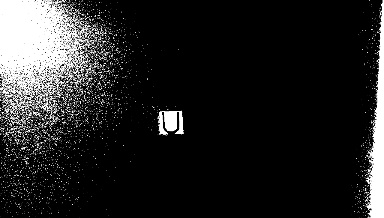U: (159, 110, 183, 133)
